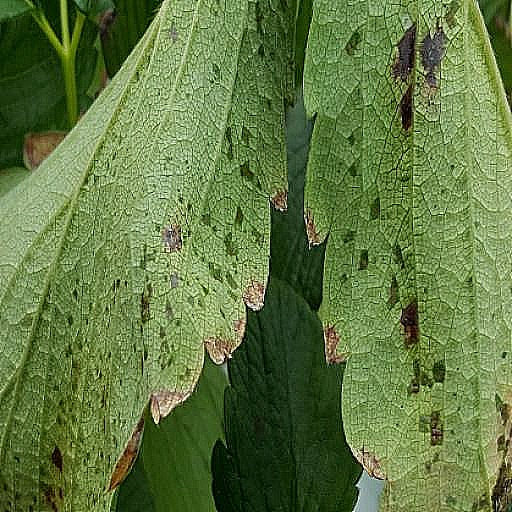Angular Leafspot: (207, 0, 511, 511), (0, 0, 212, 511)
